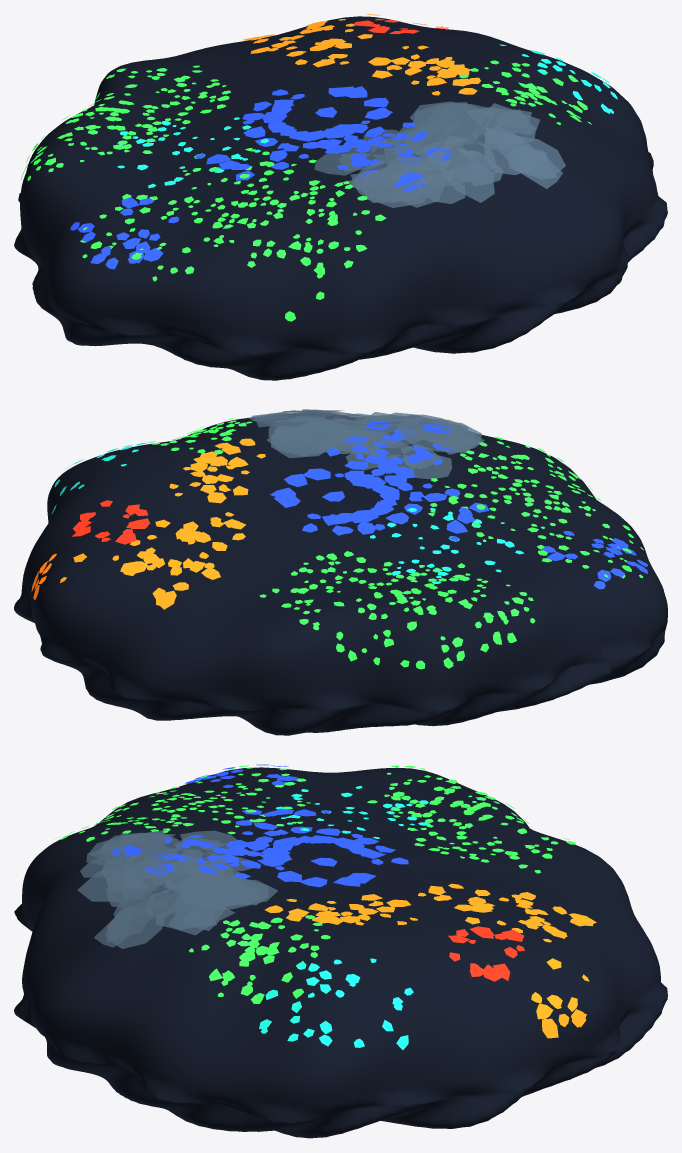
The model's file is batu_kalimaya_banten.glb.
3 views of the same model, one above another, from view 1: azimuth 30°, elevation 25°; view 2: azimuth 150°, elevation 25°; view 3: azimuth 270°, elevation 25° (orthographic). The views are drawn at different scales.
Visible parts, largest first — view 1: opal_body, milky_patch, fire_green, fire_blue, fire_orange, fire_teal; view 2: opal_body, milky_patch, fire_blue, fire_green, fire_orange, fire_teal, fire_red; view 3: opal_body, milky_patch, fire_green, fire_blue, fire_orange, fire_teal, fire_red.
Boxes of the visible parts, left/top/right/bottom form: opal_body: left=14, top=16, right=667, bottom=380; milky_patch: left=314, top=101, right=565, bottom=207; fire_green: left=20, top=60, right=591, bottom=321; fire_blue: left=70, top=86, right=451, bottom=269; fire_orange: left=243, top=14, right=480, bottom=95; fire_teal: left=117, top=44, right=617, bottom=188; opal_body: left=14, top=413, right=667, bottom=735; milky_patch: left=247, top=409, right=484, bottom=479; fire_blue: left=270, top=420, right=647, bottom=589; fire_green: left=146, top=418, right=643, bottom=669; fire_orange: left=31, top=438, right=265, bottom=609; fire_teal: left=51, top=441, right=524, bottom=583; fire_red: left=72, top=500, right=150, bottom=544; opal_body: left=14, top=767, right=667, bottom=1138; milky_patch: left=77, top=830, right=278, bottom=948; fire_green: left=55, top=765, right=575, bottom=1003; fire_blue: left=111, top=764, right=408, bottom=887; fire_orange: left=265, top=883, right=596, bottom=1038; fire_teal: left=259, top=786, right=430, bottom=1049; fire_red: left=448, top=926, right=524, bottom=981.
Size of the model in its own units: 0.1084 by 0.0302 by 0.097.
